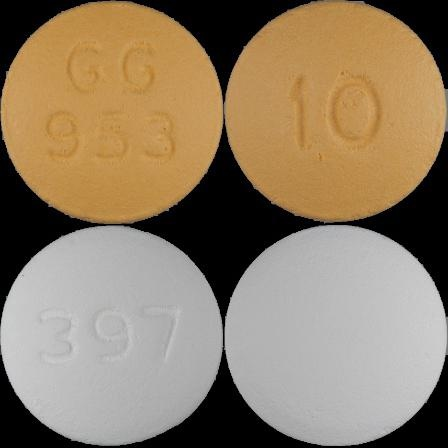68788-0384: (0, 0, 224, 224)
